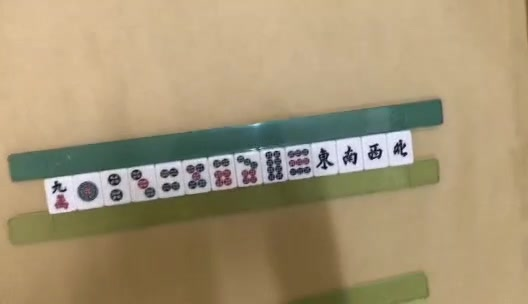1p: (78, 182, 97, 203)
1z: (316, 146, 334, 171)
2p: (108, 175, 124, 201)
2z: (343, 145, 357, 167)
3p: (131, 169, 154, 198)
3z: (368, 143, 383, 160)
4p: (161, 167, 180, 191)
4z: (393, 139, 408, 158)
5p: (187, 163, 206, 190)
6p: (213, 158, 232, 188)
7p: (237, 156, 259, 184)
8p: (265, 152, 283, 181)
9m: (49, 181, 70, 210)
9p: (288, 149, 310, 175)
